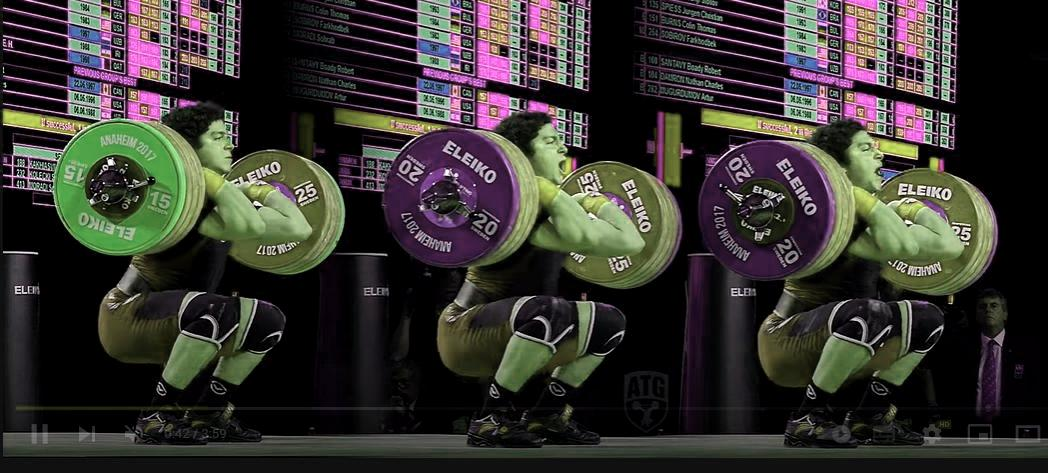Barbell: (416, 184, 444, 209), (731, 200, 759, 225), (85, 175, 111, 197)
